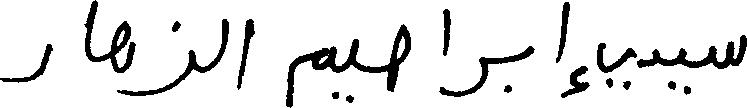X: (134, 16, 194, 100), (450, 14, 487, 101), (290, 42, 332, 107), (0, 39, 49, 87), (598, 38, 636, 94), (111, 16, 132, 100), (390, 19, 409, 96), (712, 30, 746, 73), (556, 0, 568, 102), (216, 14, 226, 69), (638, 44, 657, 72), (87, 0, 95, 66), (349, 34, 356, 107), (444, 4, 448, 100), (246, 14, 251, 63), (680, 43, 684, 97), (524, 41, 533, 63)
